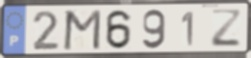1: (180, 10, 194, 47)
2: (31, 10, 61, 52)
6: (103, 8, 133, 51)
9: (141, 8, 167, 51)
M: (61, 8, 103, 51)
Z: (210, 8, 243, 48)
